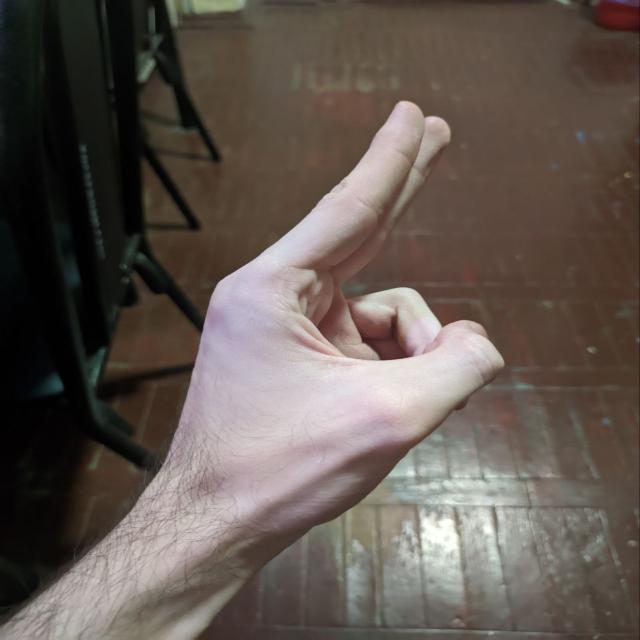d: (182, 102, 541, 535)
